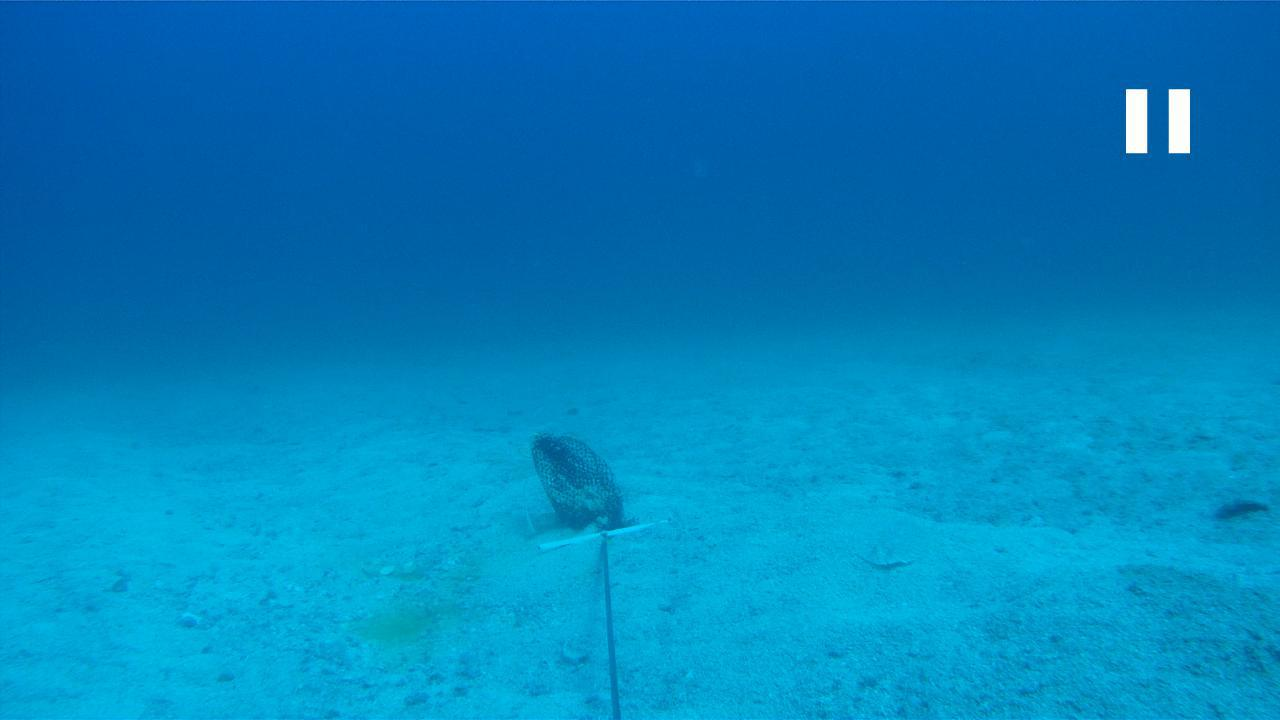bothus: (854, 520, 930, 568)
